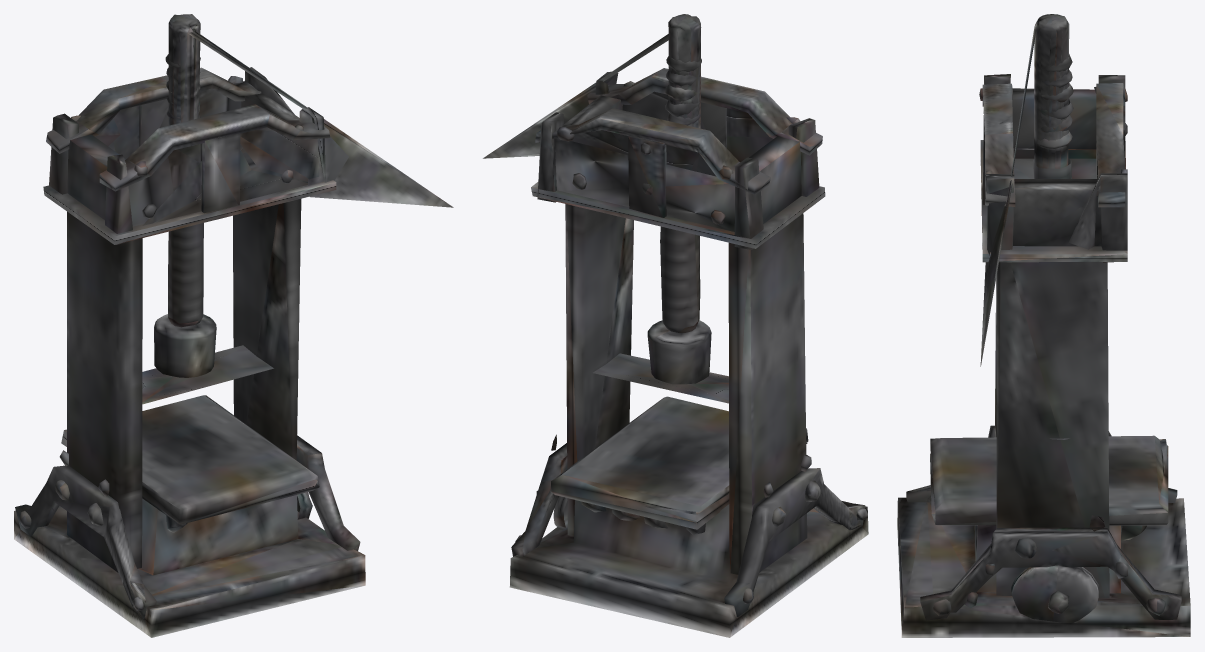
File: fj_prensa.glb
The picture shows the model from 3 angles, left to right: view 1: azimuth 30°, elevation 25°; view 2: azimuth 150°, elevation 25°; view 3: azimuth 270°, elevation 25°; orthographic projection. The views are drawn at different scales.
Visible parts, largest first — view 1: Mesh_0.1535; view 2: Mesh_0.1535; view 3: Mesh_0.1535.
Boxes of the visible parts, left/top/right/bottom form: Mesh_0.1535: left=14, top=14, right=453, bottom=637; Mesh_0.1535: left=483, top=14, right=868, bottom=637; Mesh_0.1535: left=897, top=14, right=1190, bottom=637.
Bounding box in the file's own units: 0.3668 × 0.543 × 0.2549.
1 material, 1 textured.
